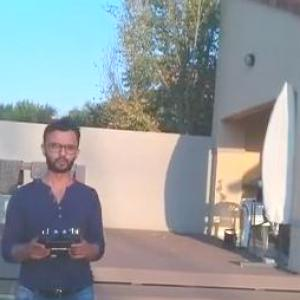follow: (0, 110, 115, 299)
